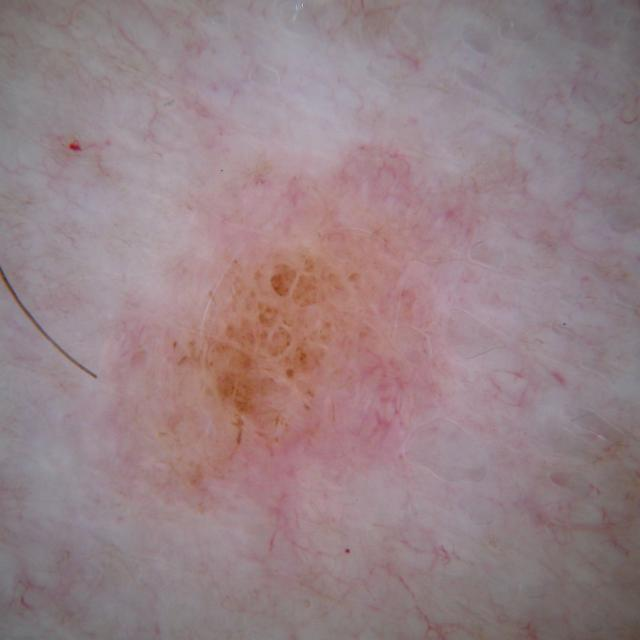Skin-Cancer Nevus: (35, 48, 623, 640)
